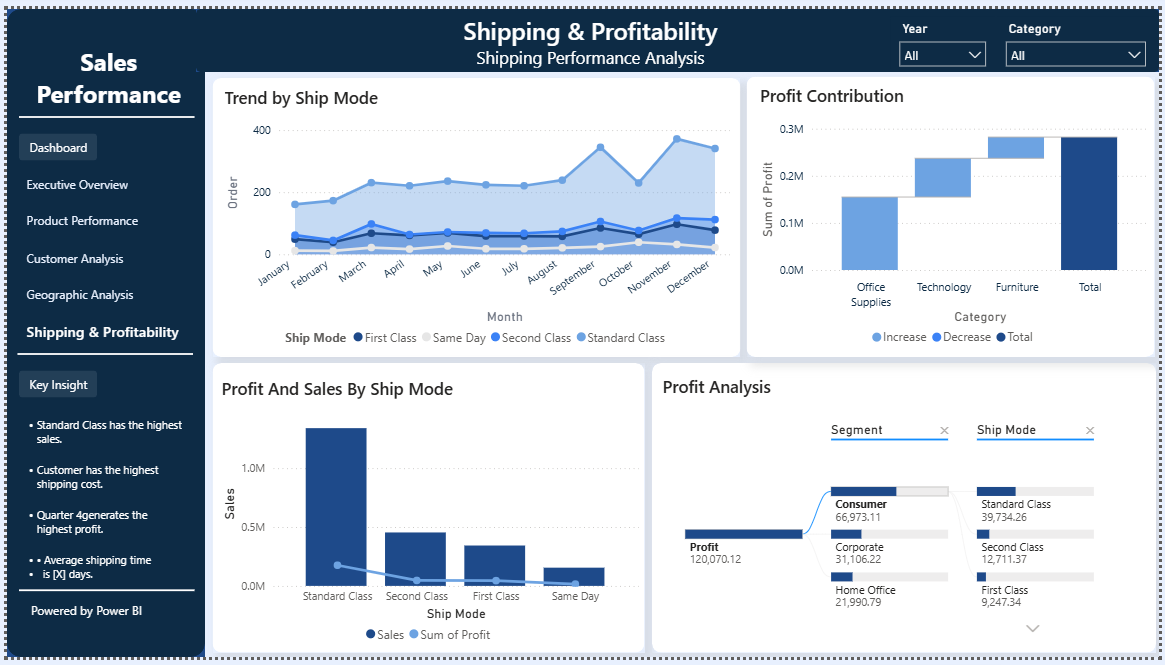

This screenshot's page, from the dashboard's own definition file:
{"tool":"powerbi","page":{"name":"Shipping & Profitability","canvas":[1280,720],"ordinal":4},"visuals":[{"type":"shape","box":[0,0,220,720],"z":0},{"type":"shape","box":[228.3,76.7,586.7,310],"z":1000},{"type":"shape","box":[228.3,393.3,480,321.7],"z":2000},{"type":"shape","box":[716.7,393.3,560,321.7],"z":3000},{"type":"shape","box":[821.7,75,453.3,311.7],"z":4000},{"type":"shape","box":[210,0,1070,70],"z":5000},{"type":"decompositionTreeVisual","title":"Profit Analysis","fields":{"ExplainBy":["Sample___Superstore.Segment","Sample___Superstore.Ship Mode"],"Analyze":["Sum(Sample___Superstore.Profit)"]},"box":[723.3,406.7,548.3,305],"z":6000},{"type":"lineClusteredColumnComboChart","title":"Profit And Sales By Ship Mode","fields":{"Y":["Sum(Sample___Superstore.Sales)"],"Category":["Sample___Superstore.Ship Mode"],"Y2":["Sum(Sample___Superstore.Profit)"]},"box":[233.3,408.3,473.3,305],"z":7000},{"type":"areaChart","title":"Trend by Ship Mode","fields":{"Series":["Sample___Superstore.Ship Mode"],"Y":["Count(Sample___Superstore.Order ID)"],"Category":["Sample___Superstore.ad_date.Variation.Date Hierarchy.Month"]},"box":[236.7,85,571.7,298.3],"z":8000},{"type":"waterfallChart","title":"Profit Contribution","fields":{"Category":["Sample___Superstore.Category"],"Y":["Sum(Sample___Superstore.Profit)"]},"box":[831.7,83.3,441.7,300],"z":9000},{"type":"pageNavigator","box":[21.7,178.3,180,195],"z":10000},{"type":"textbox","box":[3.1,34.6,219.2,88.5],"z":11000},{"type":"textbox","box":[21.7,653.3,170,35],"z":12000},{"type":"shape","box":[12.5,110.8,195,16.7],"z":13000},{"type":"shape","box":[13.3,630,195,31.7],"z":14000},{"type":"textbox","box":[393.3,0,510,70],"z":15000},{"type":"slicer","fields":{"Values":["Sample___Superstore.Category"]},"box":[1099.3,6.1,175.6,59.1],"z":16000},{"type":"slicer","fields":{"Values":["Sample___Superstore.ad_date.Variation.Date Hierarchy.Year"]},"box":[981.2,7.6,116.6,59.1],"z":17000},{"type":"textbox","box":[15.8,137.5,80.8,30],"z":18000},{"type":"textbox","box":[15.8,400.8,80.8,30],"z":19000},{"type":"textbox","box":[10.6,448.2,190.8,198.4],"z":20000},{"type":"shape","box":[12.5,138.3,86.7,30],"z":21000},{"type":"shape","box":[13.3,401.7,86.7,30],"z":22000},{"type":"shape","box":[11.7,368.3,195,30],"z":23000}]}

Visuals, with their boxes on the page's 1280x720 design canvas (x1, y1, x2, y2). These are canvas units, not pixel positions in the 1165x665 screenshot, which may show the page scaled, cropped or inside an application window:
shape: [0, 0, 220, 720]
shape: [228, 77, 815, 387]
shape: [228, 393, 708, 715]
shape: [717, 393, 1277, 715]
shape: [822, 75, 1275, 387]
shape: [210, 0, 1280, 70]
"Profit Analysis" decompositionTreeVisual: [723, 407, 1272, 712]
"Profit And Sales By Ship Mode" lineClusteredColumnComboChart: [233, 408, 707, 713]
"Trend by Ship Mode" areaChart: [237, 85, 808, 383]
"Profit Contribution" waterfallChart: [832, 83, 1273, 383]
pageNavigator: [22, 178, 202, 373]
textbox: [3, 35, 222, 123]
textbox: [22, 653, 192, 688]
shape: [12, 111, 208, 128]
shape: [13, 630, 208, 662]
textbox: [393, 0, 903, 70]
slicer - Sample___Superstore.Category: [1099, 6, 1275, 65]
slicer - Sample___Superstore.ad_date.Variation.Date Hierarchy.Year: [981, 8, 1098, 67]
textbox: [16, 138, 97, 168]
textbox: [16, 401, 97, 431]
textbox: [11, 448, 201, 647]
shape: [12, 138, 99, 168]
shape: [13, 402, 100, 432]
shape: [12, 368, 207, 398]
